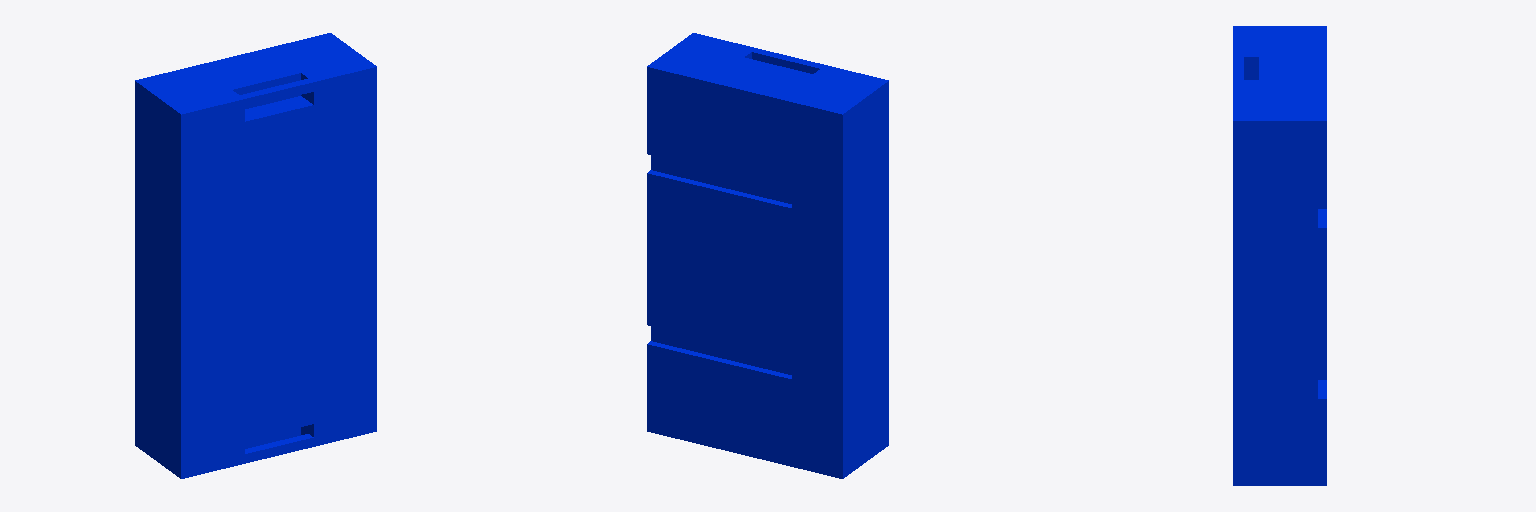
Rendered from battery_s.obj.
The picture shows the model from 3 angles: view 1: azimuth 30°, elevation 25°; view 2: azimuth 150°, elevation 25°; view 3: azimuth 270°, elevation 25°; orthographic projection.
Parts seen in each view (by area): view 1: battery_s.001; view 2: battery_s.001; view 3: battery_s.001.
Part boxes in pixels (left/top/right/bottom): battery_s.001: left=135, top=33, right=376, bottom=478; battery_s.001: left=647, top=33, right=888, bottom=478; battery_s.001: left=1233, top=26, right=1326, bottom=485.
Bounding box in the file's own units: 0.54 × 0.96 × 0.222.